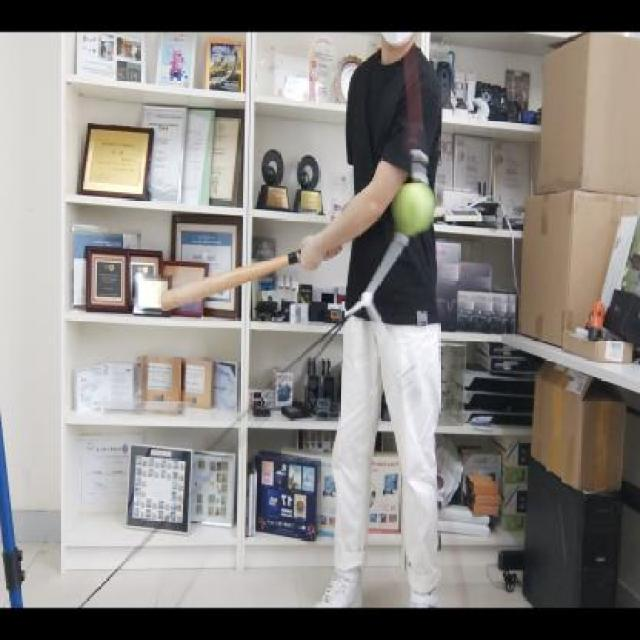baseball: (392, 182, 436, 238)
